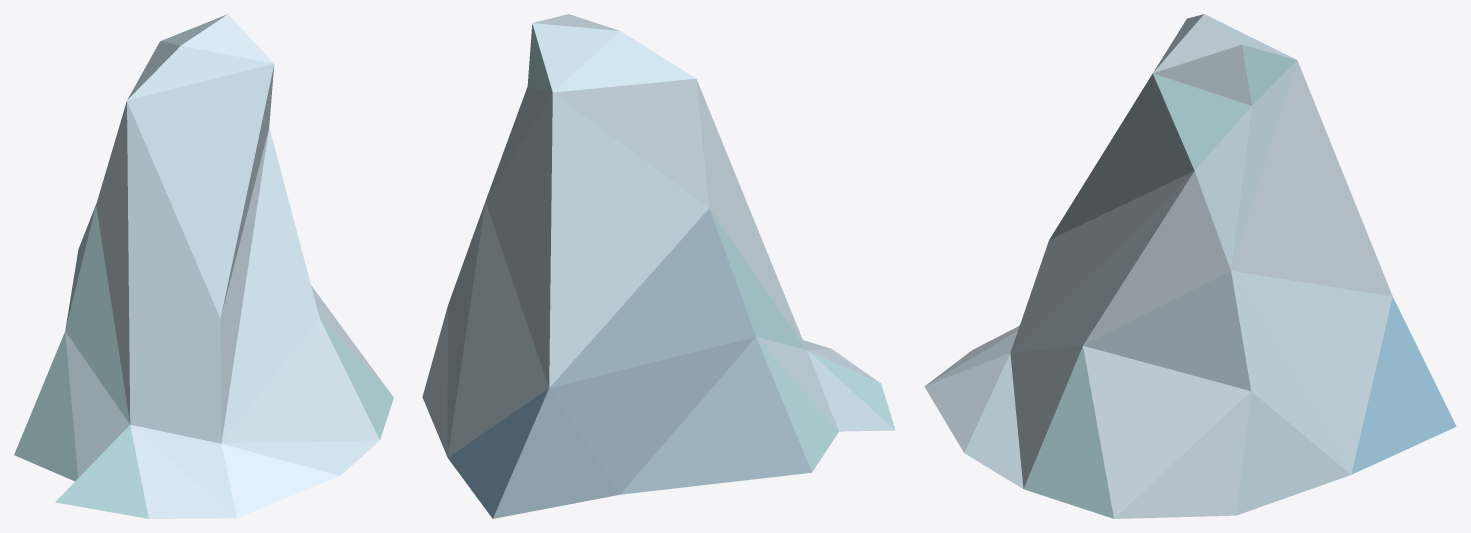
The model's file is Iceberg 7.fbx.
The picture shows the model from 3 angles, left to right: view 1: azimuth 30°, elevation 25°; view 2: azimuth 150°, elevation 25°; view 3: azimuth 270°, elevation 25°; orthographic projection. The views are drawn at different scales.
Parts seen in each view (by area): view 1: Iceberg 7; view 2: Iceberg 7; view 3: Iceberg 7.
Part boxes in pixels (x1,y1,x2,y2): Iceberg 7: (14,14,393,518); Iceberg 7: (422,14,895,518); Iceberg 7: (924,14,1456,518).
Size of the model in its own units: 4758 by 4637 by 5397.
